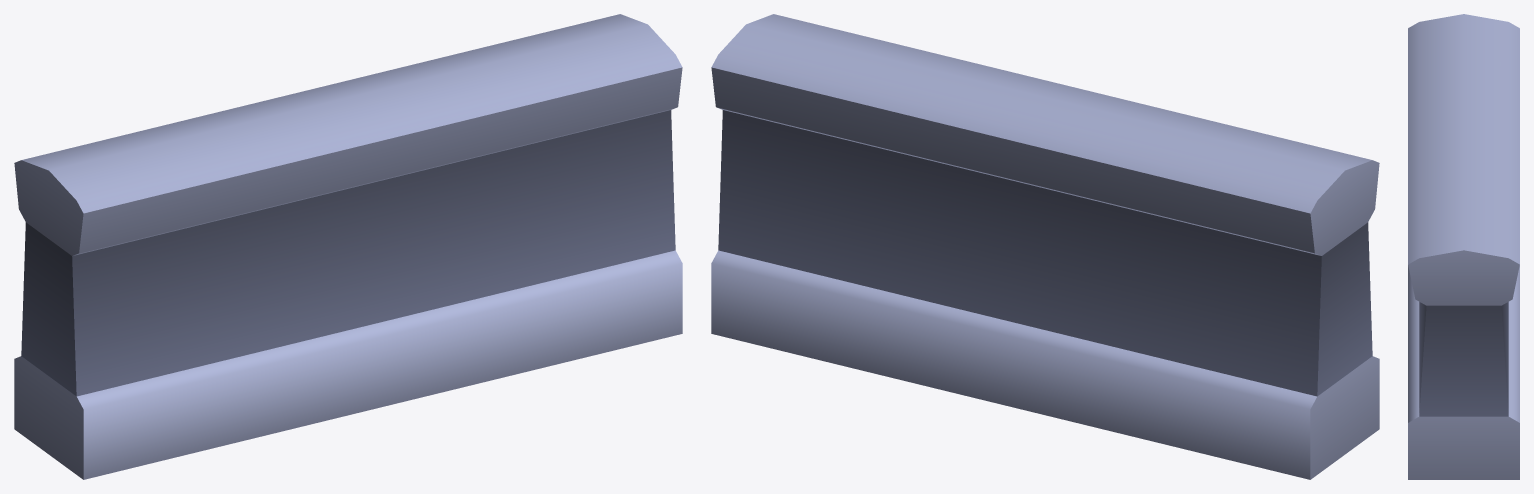
File: stone-wall.003_lev1.glb
The picture shows the model from 3 angles, left to right: view 1: azimuth 30°, elevation 25°; view 2: azimuth 150°, elevation 25°; view 3: azimuth 270°, elevation 25°; orthographic projection. The views are drawn at different scales.
Parts seen in each view (by area): view 1: stone-wall.003_lev1; view 2: stone-wall.003_lev1; view 3: stone-wall.003_lev1.
Boxes of the visible parts, box(x1,y1,x2,y2) form: stone-wall.003_lev1: box(14, 14, 682, 479); stone-wall.003_lev1: box(711, 14, 1379, 479); stone-wall.003_lev1: box(1408, 14, 1519, 479).
Bounding box in the file's own units: 2 × 0.9063 × 0.4.
Materials: 1 (1 with a texture image).
